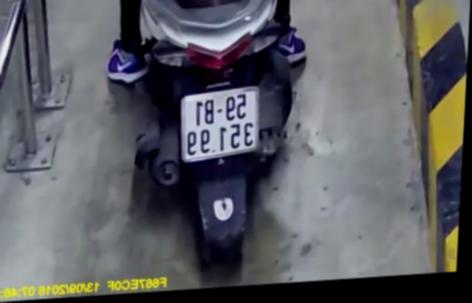License_Plate: (174, 81, 272, 168)
